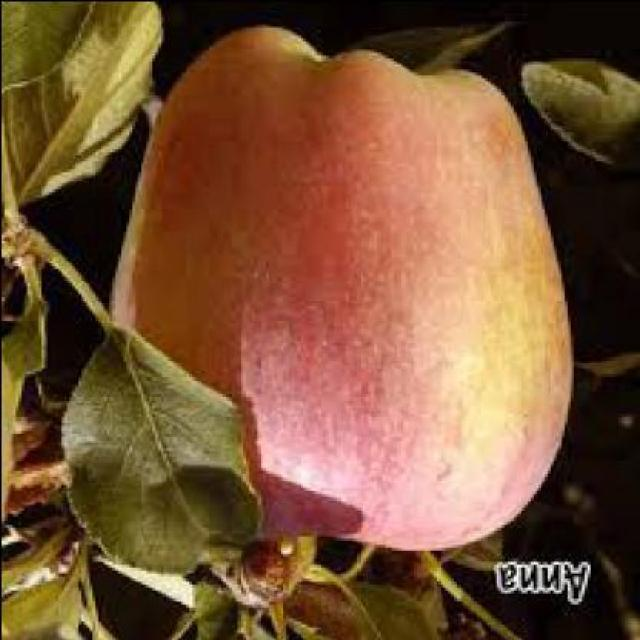BIODEGRADABLE: (116, 28, 572, 549), (0, 2, 161, 511), (62, 328, 258, 573), (4, 2, 161, 204), (1, 505, 88, 639), (524, 60, 640, 159), (350, 24, 512, 73), (8, 378, 66, 513), (240, 535, 314, 639), (285, 580, 376, 640), (355, 584, 448, 640), (195, 582, 238, 639)
